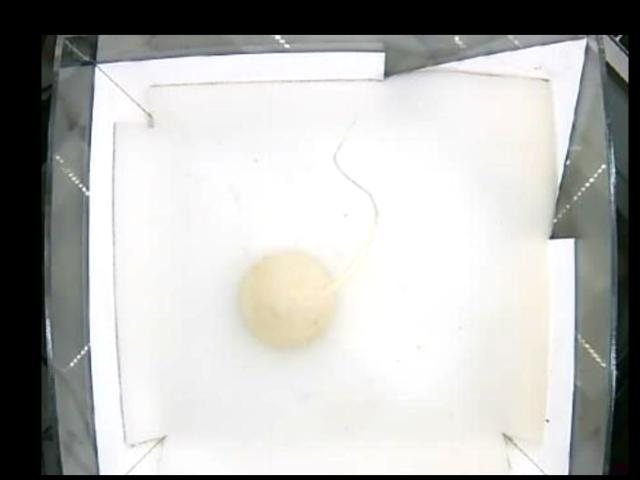Mooli: (240, 249, 335, 347)
